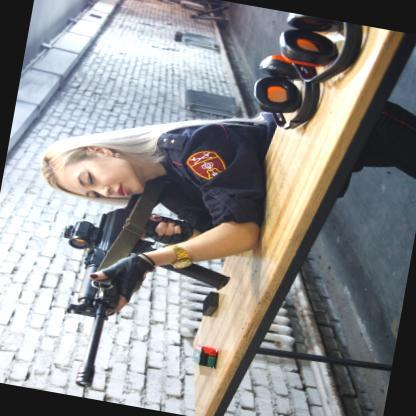rifle: (32, 171, 232, 407)
